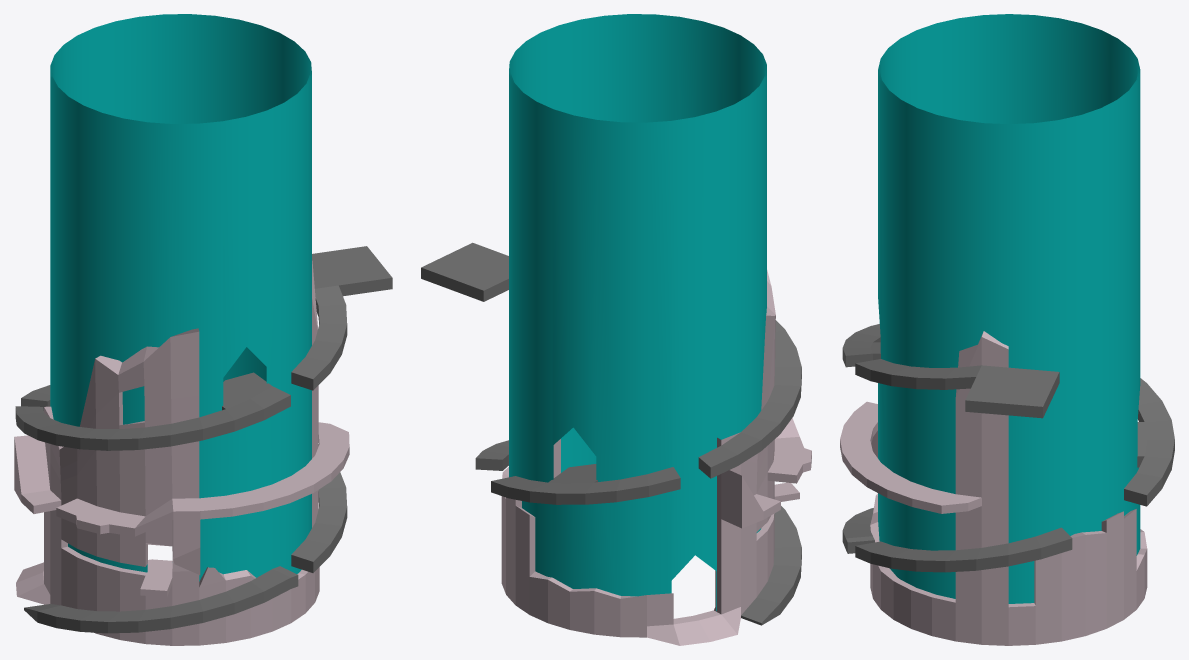
File: prison.fbx
3 renders of one model, left to right at view 1: azimuth 30°, elevation 25°; view 2: azimuth 150°, elevation 25°; view 3: azimuth 270°, elevation 25°, orthographic.
Visible parts, largest first — view 1: Force_Field, Tower, Broken Stairs, Ring; view 2: Force_Field, Tower, Broken Stairs, Ring; view 3: Force_Field, Tower, Broken Stairs, Ring.
Part boxes in pixels (left/top/right/bottom): Force_Field: left=50, top=14, right=311, bottom=581; Tower: left=14, top=260, right=349, bottom=634; Broken Stairs: left=15, top=246, right=392, bottom=633; Ring: left=16, top=562, right=319, bottom=645; Force_Field: left=509, top=14, right=766, bottom=610; Tower: left=501, top=270, right=811, bottom=626; Broken Stairs: left=421, top=242, right=801, bottom=625; Ring: left=501, top=573, right=755, bottom=645; Force_Field: left=878, top=14, right=1140, bottom=603; Tower: left=840, top=331, right=1147, bottom=634; Broken Stairs: left=842, top=324, right=1174, bottom=572; Ring: left=870, top=576, right=1147, bottom=645.
Size of the model in its own units: 32 by 46.08 by 26.61.
